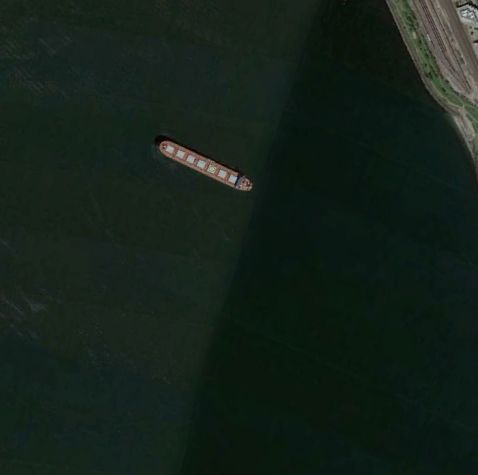boat: (159, 138, 255, 194)
